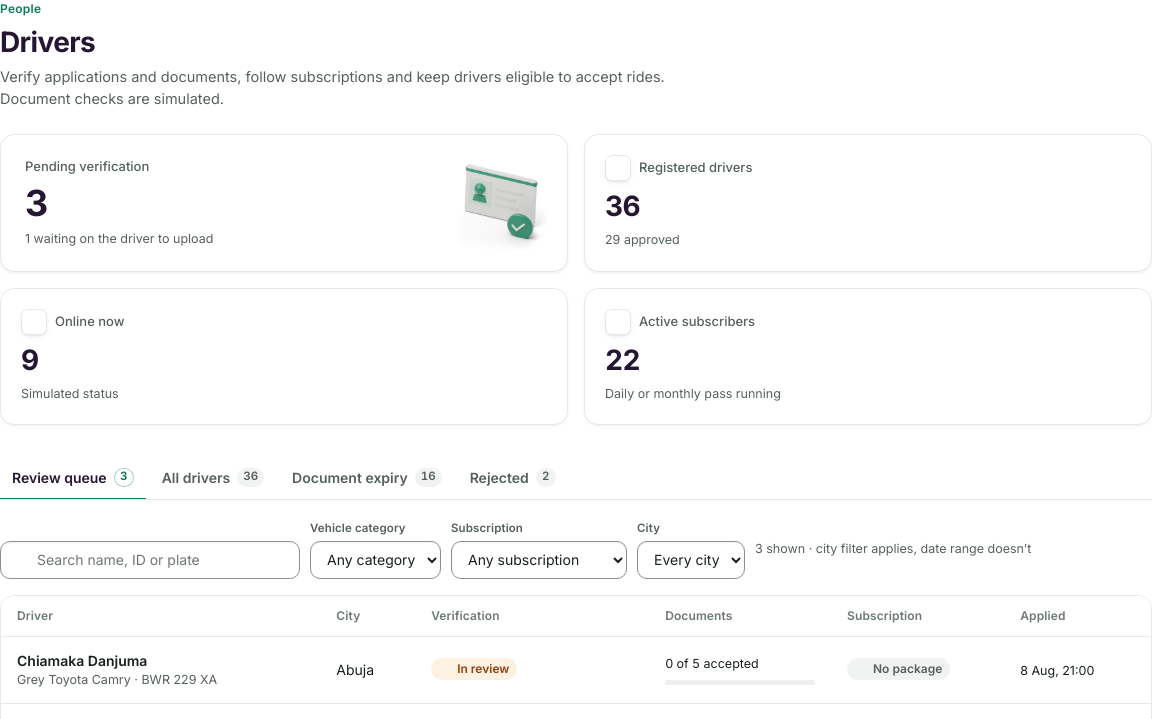
Test case: driver profile sheet › opens on documents for an applicant and shows the honest file placeholder
Click the row with class "clickable" that starts with "Chiamaka Danjuma" at (576, 670), box [1,637,1151,704]
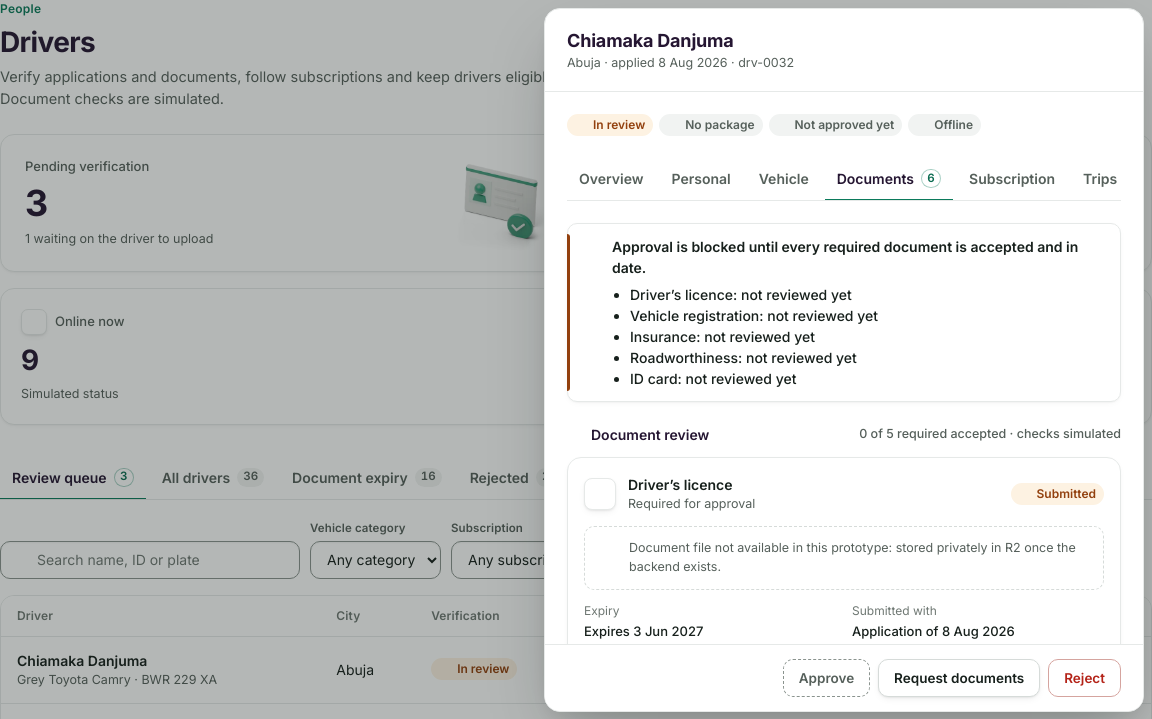
Expected: the text "Document file not available in this prototype: stored privately in R2 once the backend exists" is shown, [629,540,1076,574]
Expected: the tab "Subscription" is shown
Click the tab "Subscription" at (1012, 179), box [957,158,1067,201]
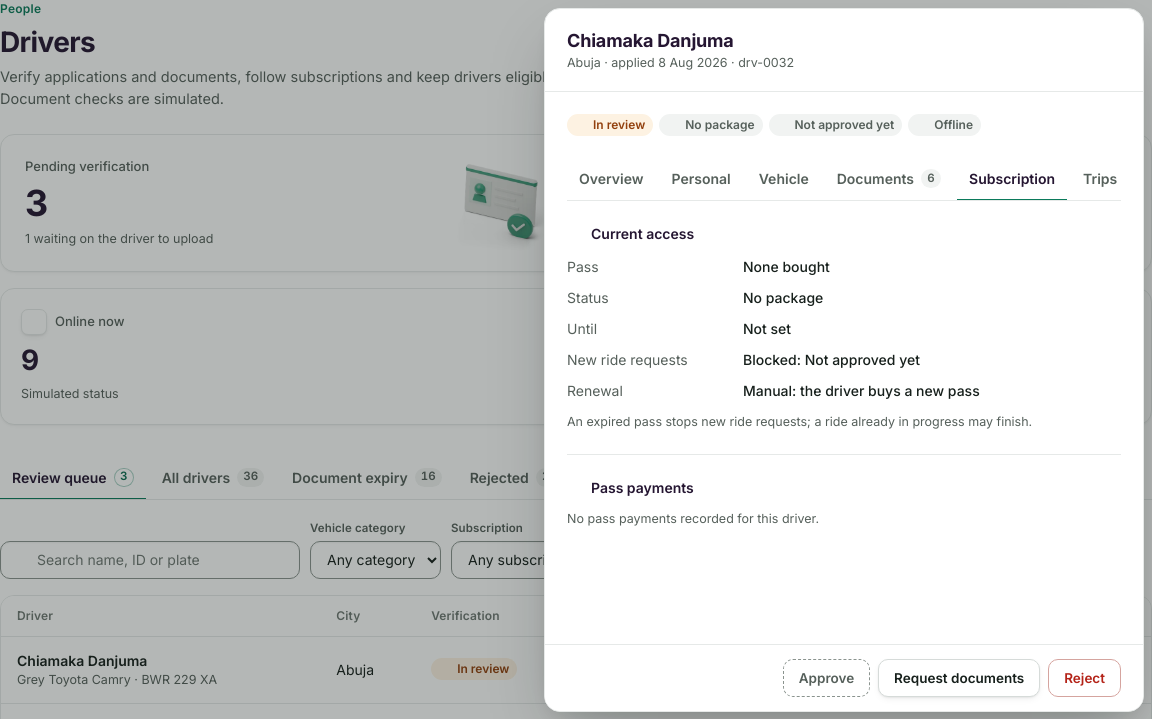
Expected: the text "Manual: the driver buys a new pass" is shown, [743,382,980,399]
